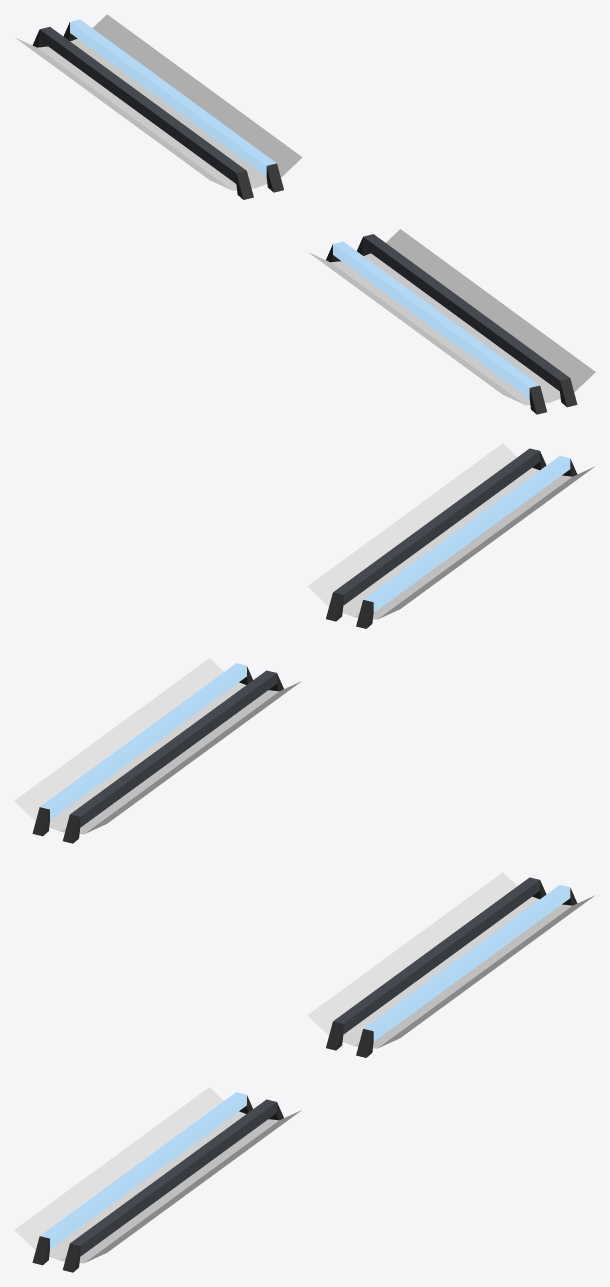
The model's file is lights_02.glb.
3 views of the same model, one above another, from view 1: azimuth 30°, elevation 25°; view 2: azimuth 150°, elevation 25°; view 3: azimuth 330°, elevation 25° (orthographic).
Visible parts, largest first — view 1: lights_02; view 2: lights_02; view 3: lights_02.
Part boxes in pixels (<box>): lights_02: <box>15,14,595,414</box>; lights_02: <box>14,443,594,843</box>; lights_02: <box>14,872,594,1272</box>.
Bounding box in the file's own units: 0.5244 × 0.1157 × 4.92.
